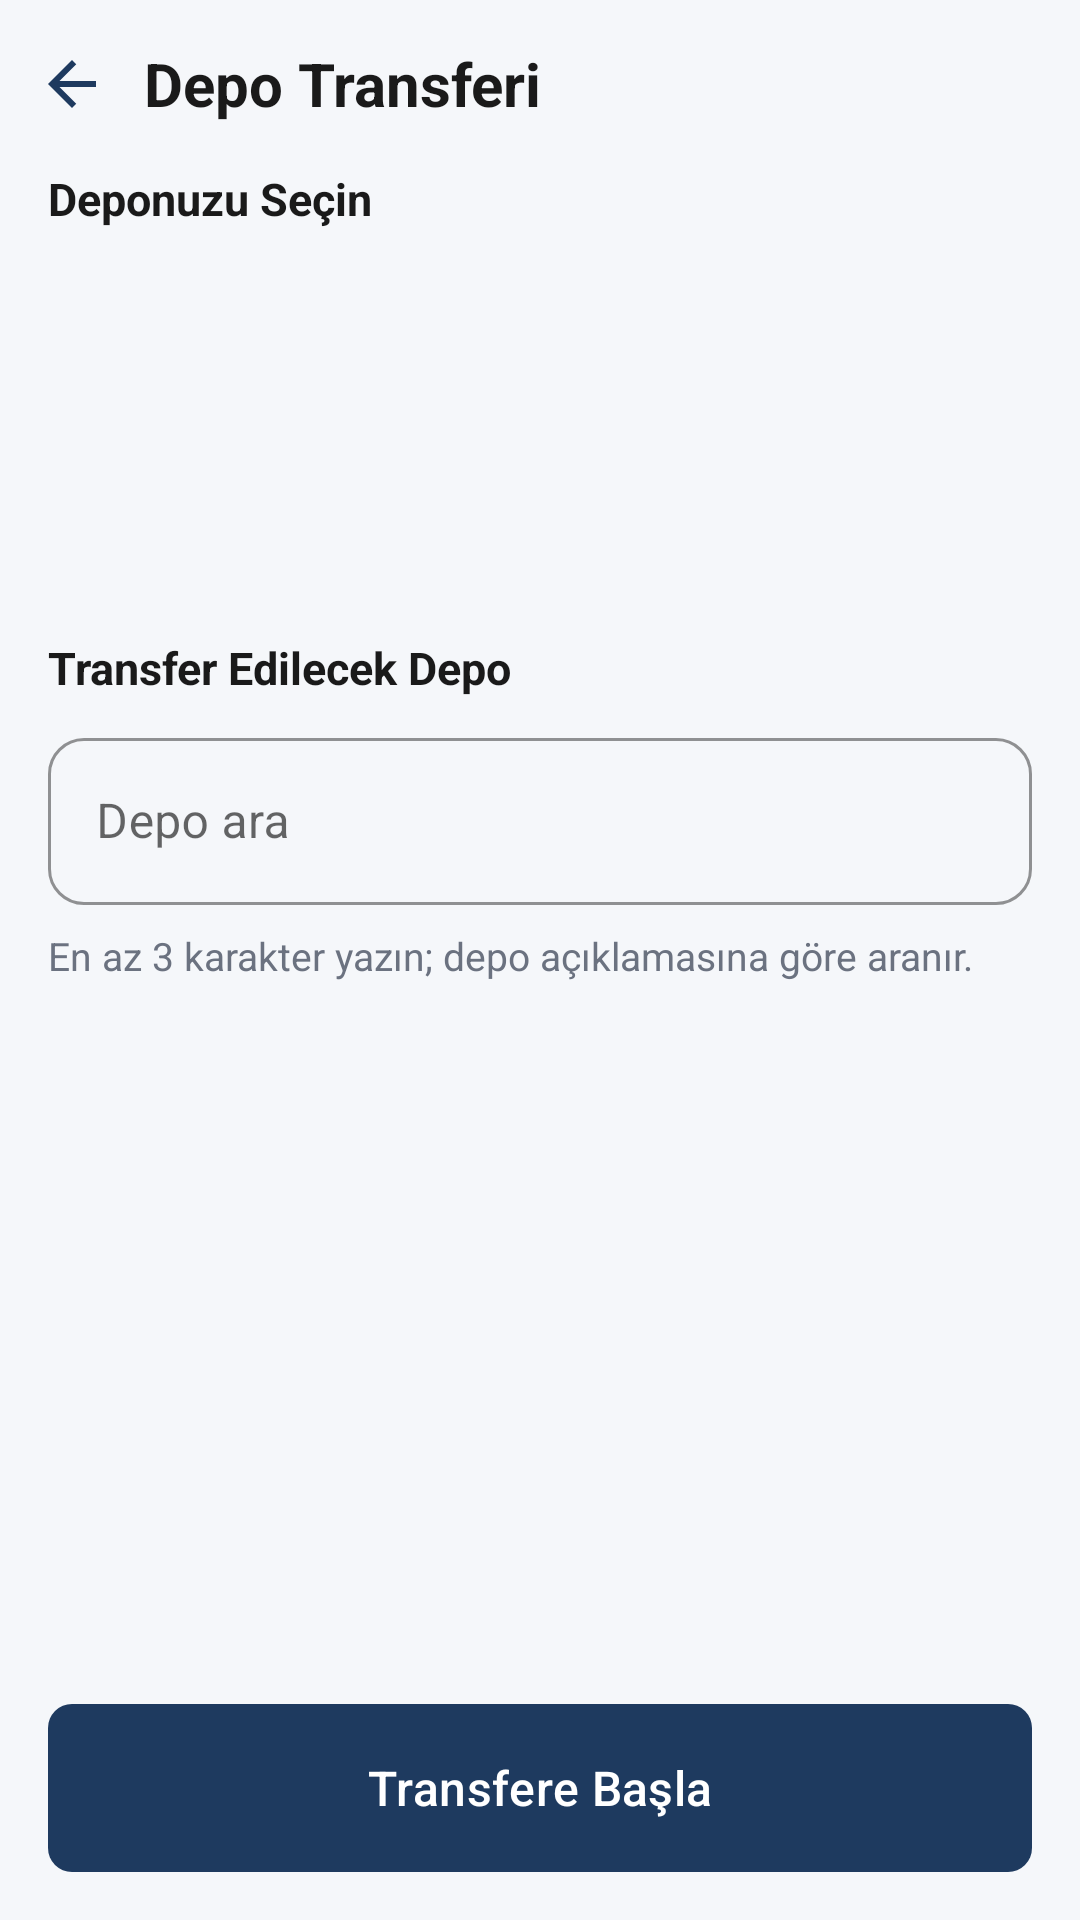

Where to tap for icons on this 1080 × 1920 app screen, as (x=x, y=y):
Geri: (x=72, y=84)
